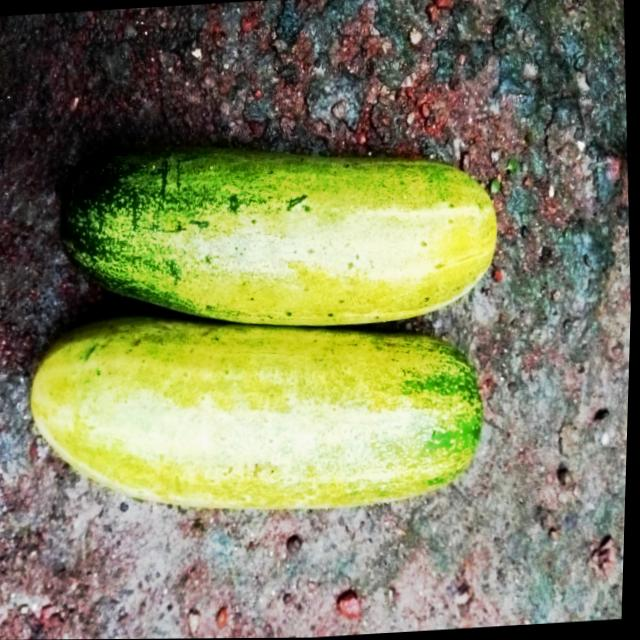Fresh-Cucumber: (23, 295, 494, 534), (51, 126, 507, 347)
